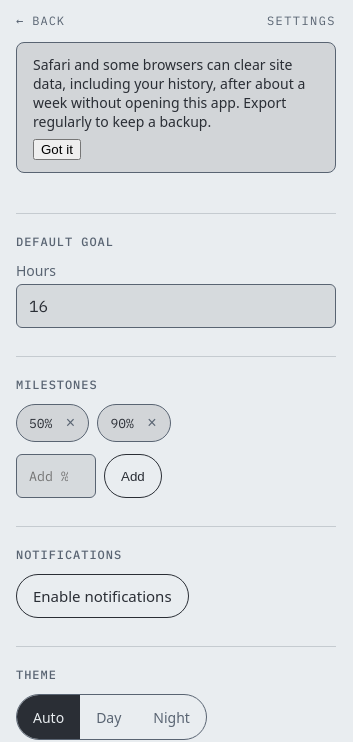
Test: <Settings> notifications (spec §6.2) › requests permission only on the toggle click, and enables only if granted
Click the button "Enable notifications": [102, 596] box [16,574,189,618]
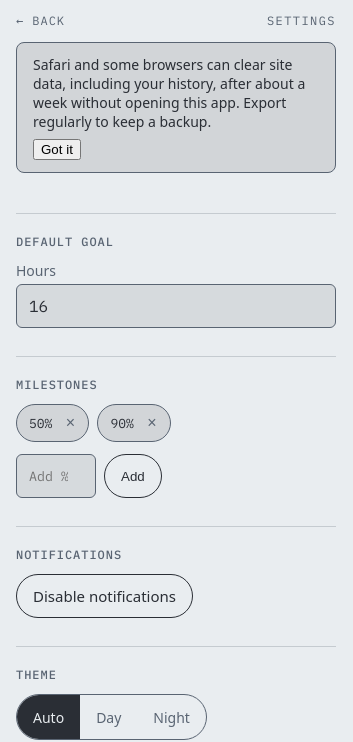
Expected: the button "Disable notifications" is shown, [16,574,193,618]
